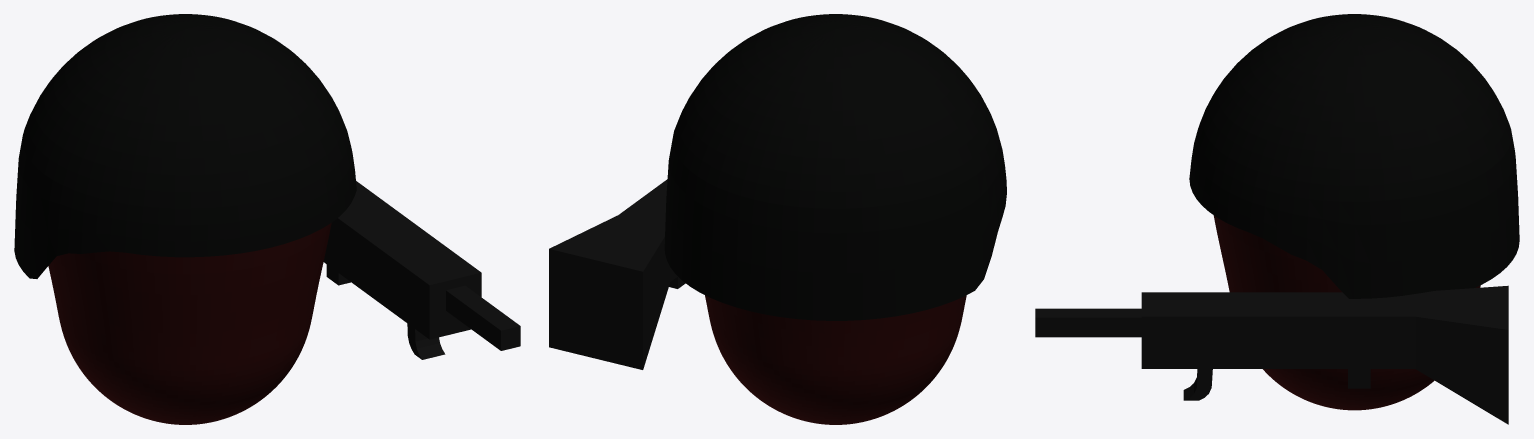
3 renders of one model, left to right at view 1: azimuth 30°, elevation 25°; view 2: azimuth 150°, elevation 25°; view 3: azimuth 270°, elevation 25°, orthographic. The views are drawn at different scales.
Visible parts, largest first — view 1: Sphere.001, Sphere, Cube; view 2: Sphere.001, Sphere, Cube; view 3: Sphere.001, Cube, Sphere.
Part boxes in pixels (x1=…): Sphere.001: x1=14, y1=14, x2=356, y2=278; Sphere: x1=48, y1=223, x2=331, y2=424; Cube: x1=323, y1=181, x2=520, y2=359; Sphere.001: x1=664, y1=14, x2=1006, y2=320; Sphere: x1=705, y1=295, x2=966, y2=424; Cube: x1=549, y1=179, x2=685, y2=369; Sphere.001: x1=1189, y1=14, x2=1519, y2=298; Cube: x1=1035, y1=285, x2=1508, y2=424; Sphere: x1=1213, y1=215, x2=1480, y2=410.
Size of the model in its own units: 8.87 by 9.17 by 10.86.
